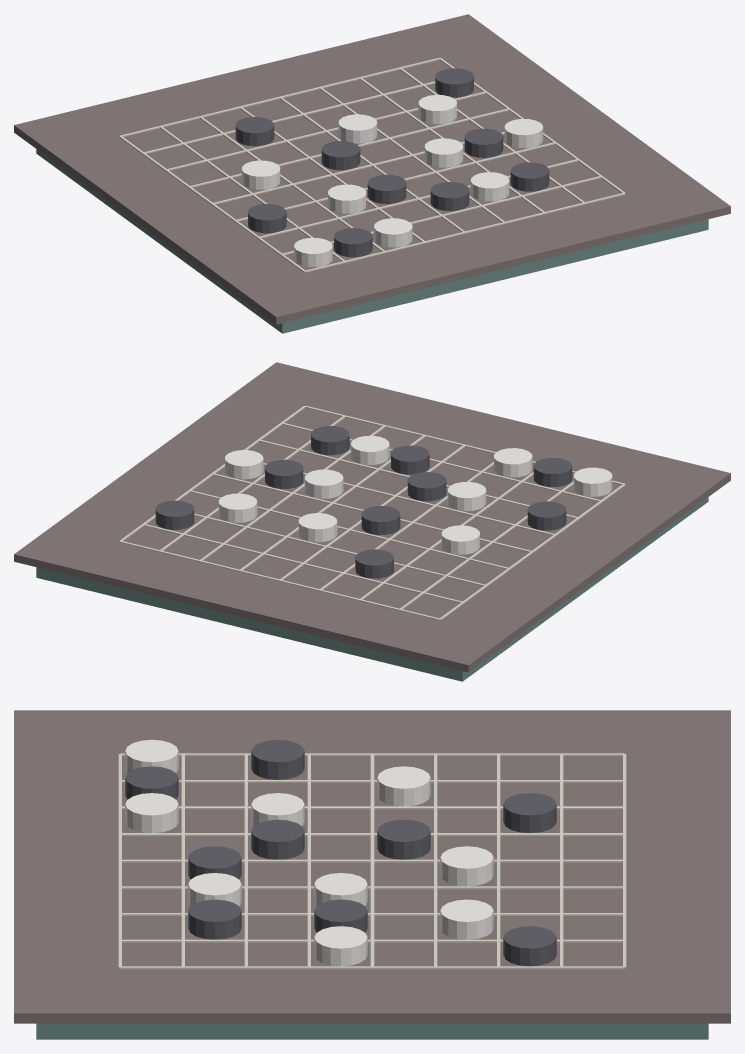
Rendered from item_96_reversi_set.glb.
3 views of the same model, one above another, from view 1: azimuth 30°, elevation 25°; view 2: azimuth 150°, elevation 25°; view 3: azimuth 270°, elevation 25° (orthographic). The views are drawn at different scales.
Visible parts, largest first — view 1: I96_Frame, I96_Board, I96_D5, I96_D9, I96_D12, I96_D10, I96_D4, I96_D13, I96_D3, I96_D16, I96_D11, I96_D8 (+24 smaller); view 2: I96_Frame, I96_Board, I96_D6, I96_D0, I96_D8, I96_D9, I96_D17, I96_D14, I96_D15, I96_D13, I96_D7, I96_D1 (+24 smaller); view 3: I96_Frame, I96_Board, I96_V8, I96_D11, I96_D6, I96_D17, I96_D2, I96_D5, I96_D15, I96_D16, I96_D8, I96_D13 (+26 smaller).
Part boxes in pixels (x1,y1,x2,y2): I96_Frame: (14, 14, 730, 324); I96_Board: (36, 149, 708, 333); I96_D5: (510, 162, 549, 191); I96_D9: (424, 138, 463, 167); I96_D12: (241, 160, 280, 189); I96_D10: (464, 128, 503, 157); I96_D4: (470, 172, 509, 201); I96_D13: (321, 141, 360, 170); I96_D3: (430, 182, 469, 211); I96_D16: (235, 117, 274, 146); I96_D11: (504, 119, 543, 148); I96_D8: (367, 174, 406, 203); I96_Frame: (14, 362, 730, 672); I96_Board: (36, 497, 708, 681); I96_D6: (527, 501, 566, 530); I96_D0: (573, 467, 612, 496); I96_D8: (407, 472, 446, 501); I96_D9: (304, 469, 343, 498); I96_D17: (155, 500, 194, 529); I96_D14: (298, 513, 337, 542); I96_D15: (218, 493, 257, 522); I96_D13: (361, 506, 400, 535); I96_D7: (447, 482, 486, 511); I96_D1: (533, 458, 572, 486); I96_Frame: (14, 710, 730, 1023); I96_Board: (36, 1023, 708, 1039); I96_V8: (120, 966, 624, 969); I96_D11: (314, 926, 367, 966); I96_D6: (251, 739, 304, 779); I96_D17: (503, 926, 556, 966); I96_D2: (125, 793, 178, 832); I96_D5: (188, 899, 241, 939); I96_D15: (440, 899, 493, 939); I96_D16: (503, 793, 556, 832); I96_D8: (251, 819, 304, 859); I96_D13: (377, 819, 430, 859).
Bounding box in the file's own units: 0.256 × 0.021 × 0.256.
